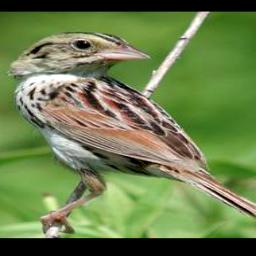Sparrow: (5, 31, 256, 235)
